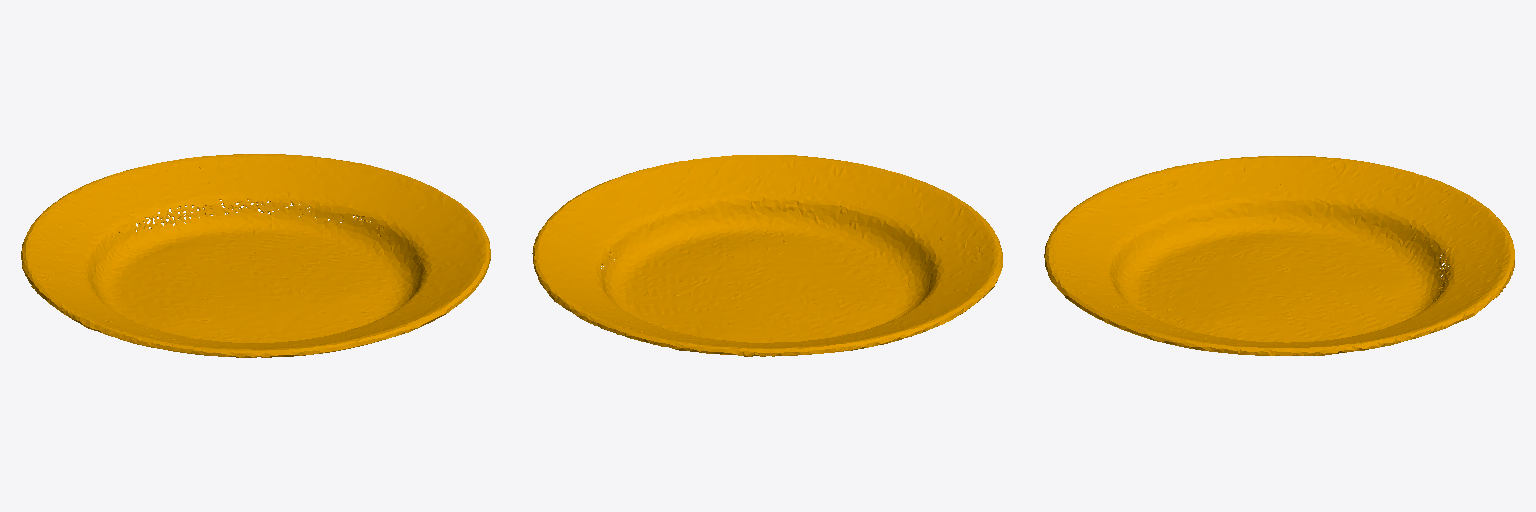
robot.urdf — root:
<robot name="root">
  <link name="link_original">
    <visual>
      <origin xyz="0 0 0" rpy="0 0 0"/>
      <geometry>
        <mesh filename="textured.obj" scale="1.0000E+00 1.0000E+00 1.0000E+00"/>
      </geometry>
    </visual>
    <inertial>
      <origin xyz="0 0 0" rpy="0 0 0"/>
      <mass value="5.7832E-02"/>
      <inertia ixx="2.64E-04" ixy="-1.76E-08" ixz="-2.08E-06" iyy="2.66E-04" iyz="-1.18E-06" izz="5.20E-04"/>
    </inertial>
    <collision>
      <origin xyz="0 0 0" rpy="0 0 0"/>
      <geometry>
        <mesh filename="coacd_allinone.obj" scale="1.0000E+00 1.0000E+00 1.0000E+00"/>
      </geometry>
    </collision>
  </link>
</robot>

--- What the picture shows (computed from the rendered views, not written in the file) ---
The picture shows the robot from 3 angles, left to right: view 1: azimuth 30°, elevation 25°; view 2: azimuth 150°, elevation 25°; view 3: azimuth 270°, elevation 25°; orthographic projection.
Model root with 1 links and 0 joints (none), rooted at link_original, posed all joints at 0.
Links seen in each view (by area): view 1: link_original; view 2: link_original; view 3: link_original.
Link boxes in pixels (x1,y1,x2,y2): link_original: (21,154,490,357); link_original: (532,155,1002,356); link_original: (1044,156,1514,355).
Size in the robot's own frame: 0.2601 by 0.26 by 0.0267 metres.
1 mesh visuals loaded from 1 distinct referenced files (1 OBJ).
